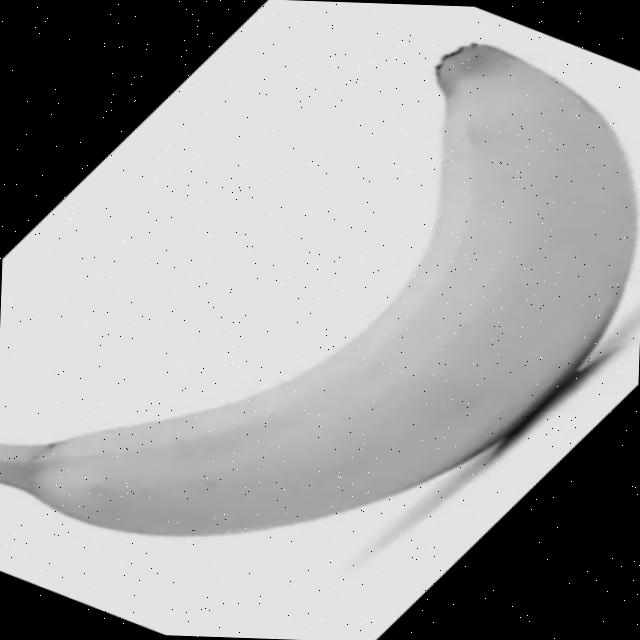banana: (0, 25, 640, 553)
